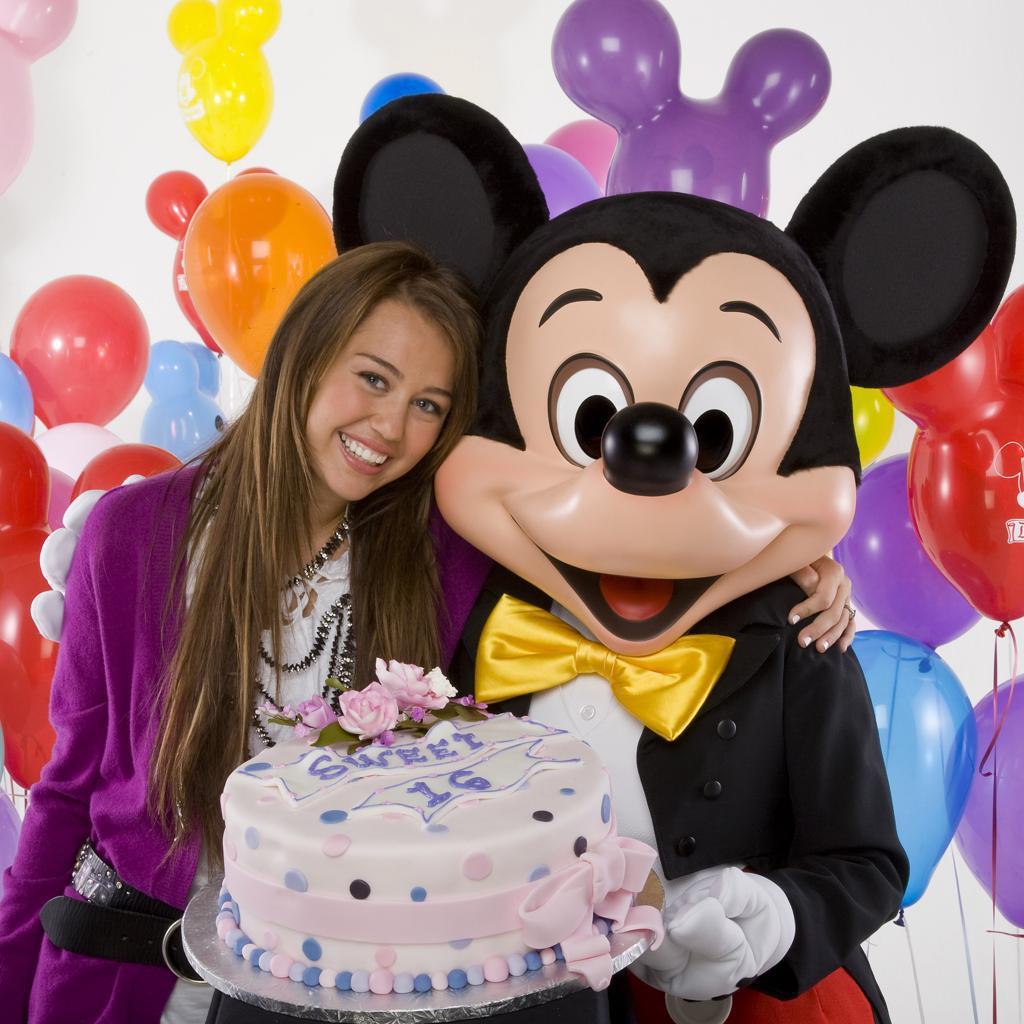face: (307, 297, 455, 499)
